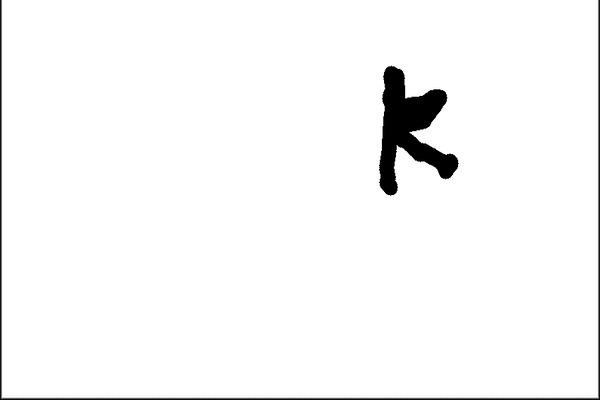K: (368, 61, 465, 201)
